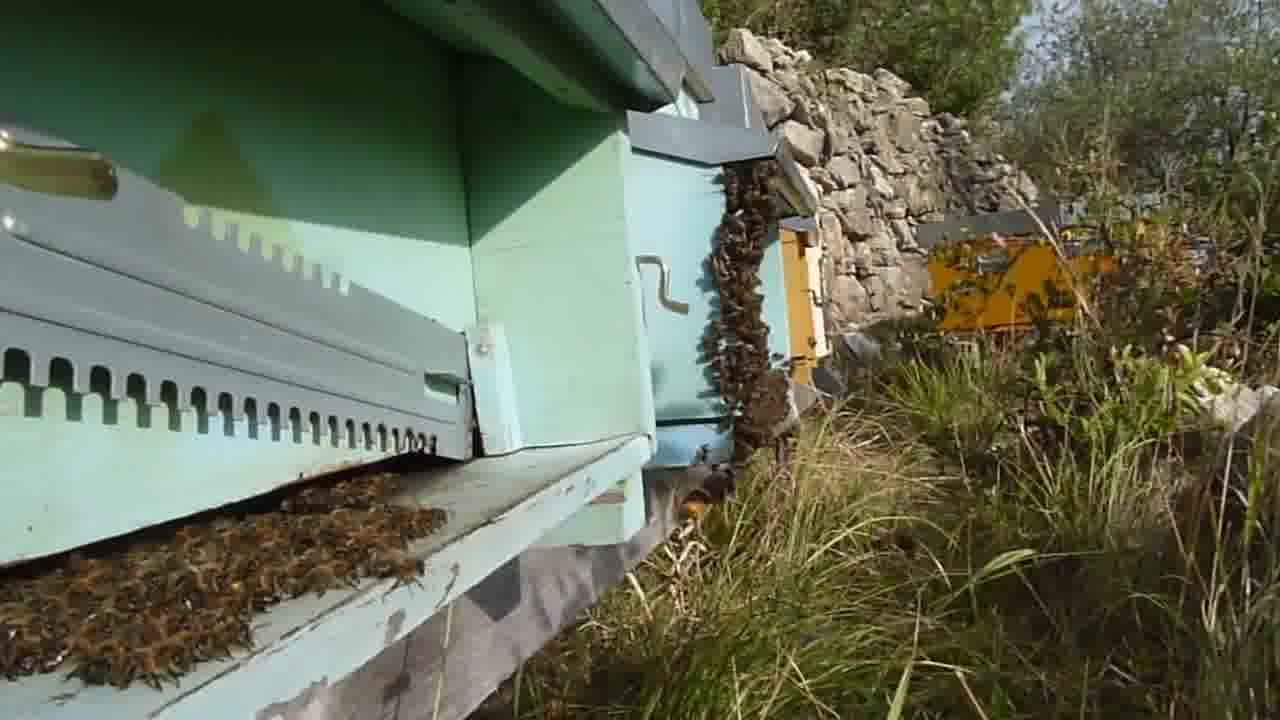bee: (8, 564, 262, 690), (272, 499, 373, 591), (693, 329, 789, 410), (709, 166, 787, 254), (706, 257, 777, 333), (153, 525, 283, 562), (368, 541, 424, 582), (395, 508, 449, 545)
hornet: (659, 445, 738, 526)
